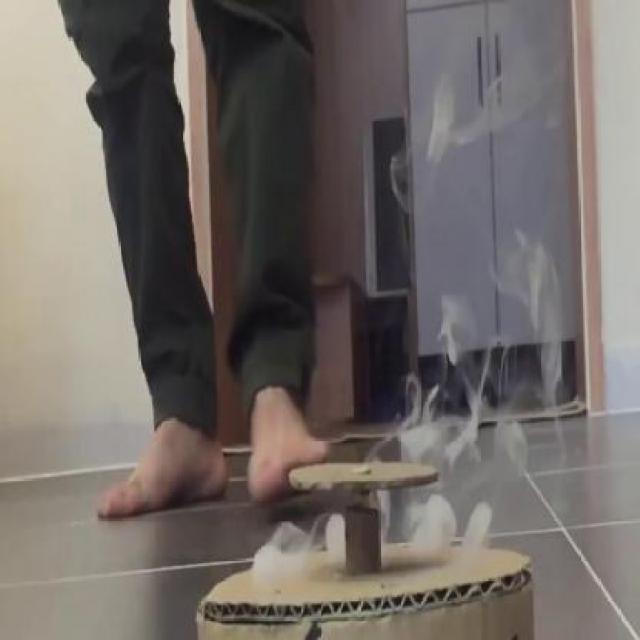smoke: (391, 264, 522, 556), (365, 408, 521, 557), (256, 520, 352, 580)
